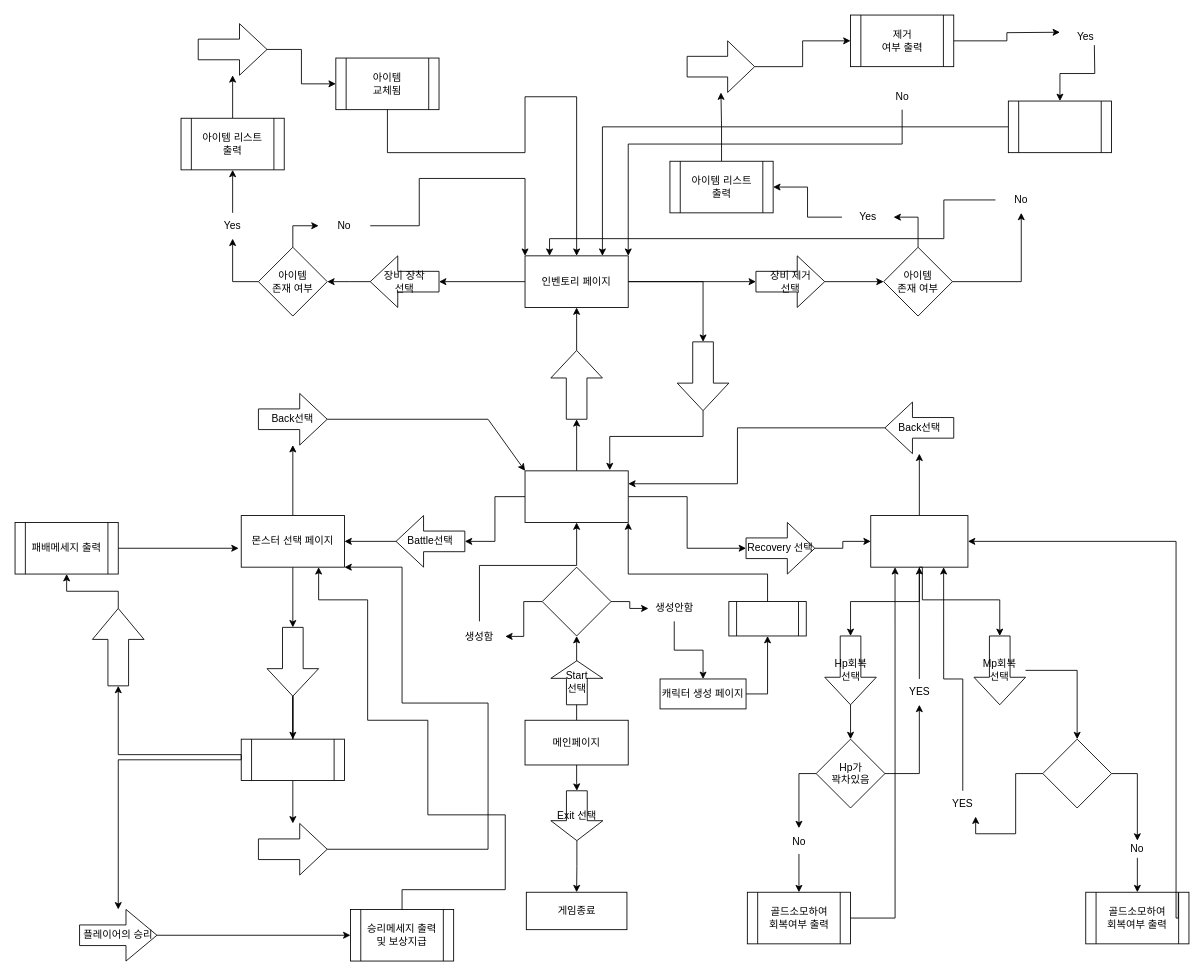
Some shapes in this 1204 by 976 pixel diagram are drawn without their labels. The centre of each missing label's shape, as x and y in pixels:
Back 선택: (x=702, y=376)
Inventory선택: (x=576, y=384)
Mp가 꽉차있음: (x=1077, y=773)
Run선택: (x=292, y=849)
교체 아이템 선택: (x=232, y=49)
메뉴페이지: (x=576, y=496)
몬스터 선택: (x=292, y=661)
몬스터의 승리: (x=118, y=647)
선택한 몬스터와 전투진행: (x=292, y=759)
아이템 제거됨: (x=1059, y=126)
제거 아이템 선택: (x=720, y=66)
캐릭터 생성: (x=767, y=618)
플레이어 생성여부: (x=576, y=601)
회복페이지: (x=919, y=541)
